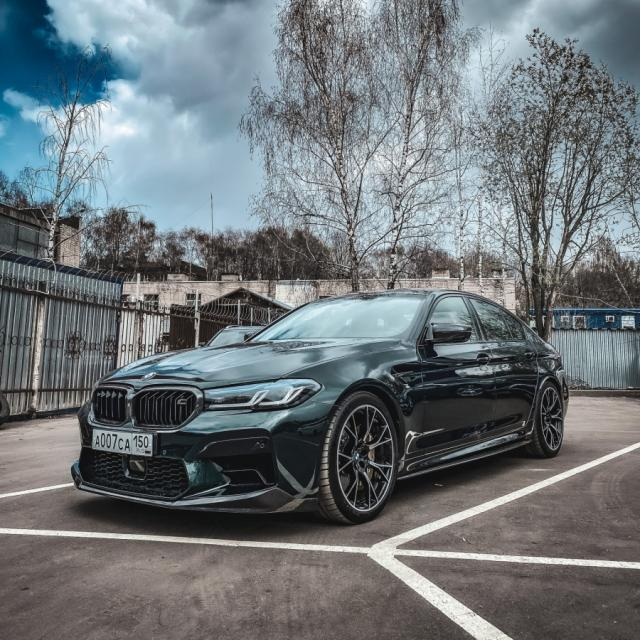number-plates: (91, 426, 157, 459)
